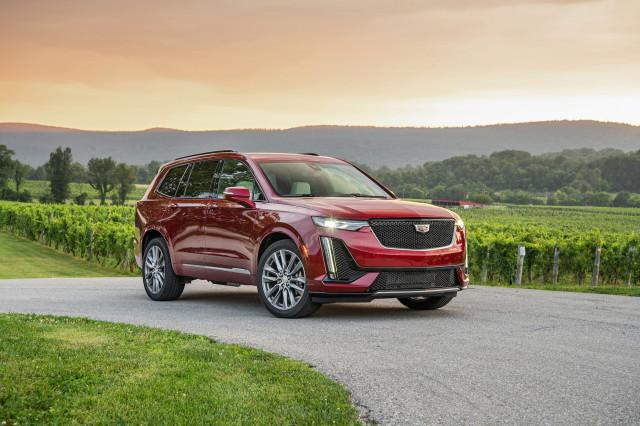car: (129, 146, 473, 317)
